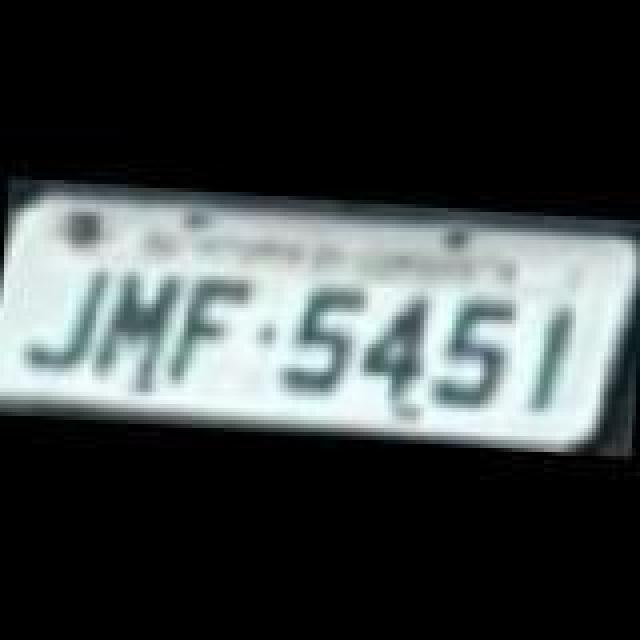1: (526, 298, 578, 414)
4: (354, 290, 430, 414)
5: (282, 286, 366, 402), (432, 294, 512, 410)
F: (170, 268, 262, 388)
J: (20, 262, 116, 378)
M: (92, 266, 188, 382)
